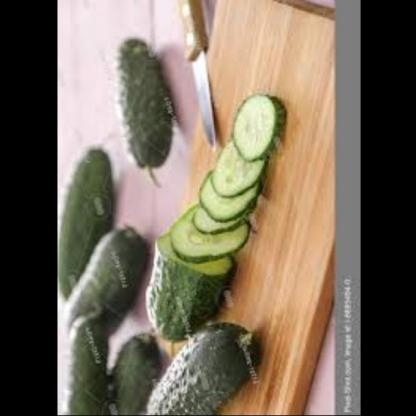cucumber: (163, 102, 274, 260), (56, 117, 126, 289), (144, 319, 262, 416), (59, 213, 145, 345), (112, 31, 175, 184), (141, 243, 230, 339), (56, 310, 110, 416), (90, 331, 155, 416)
